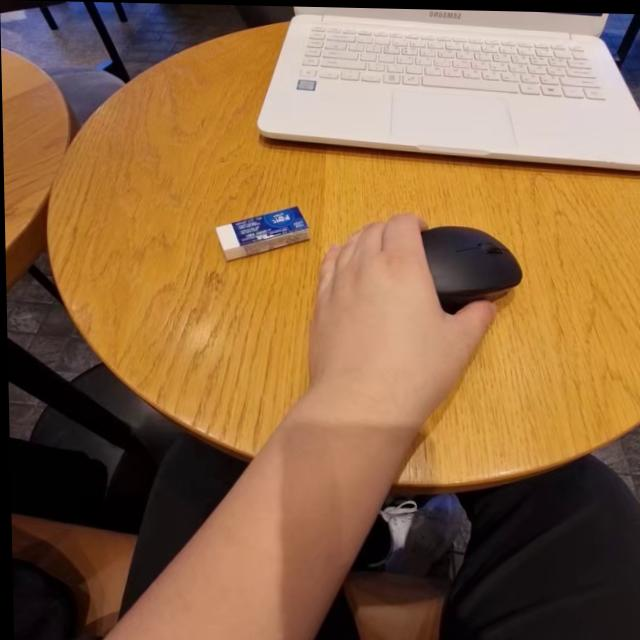eraser: (191, 204, 308, 283)
grab_mouse: (309, 200, 527, 418)
